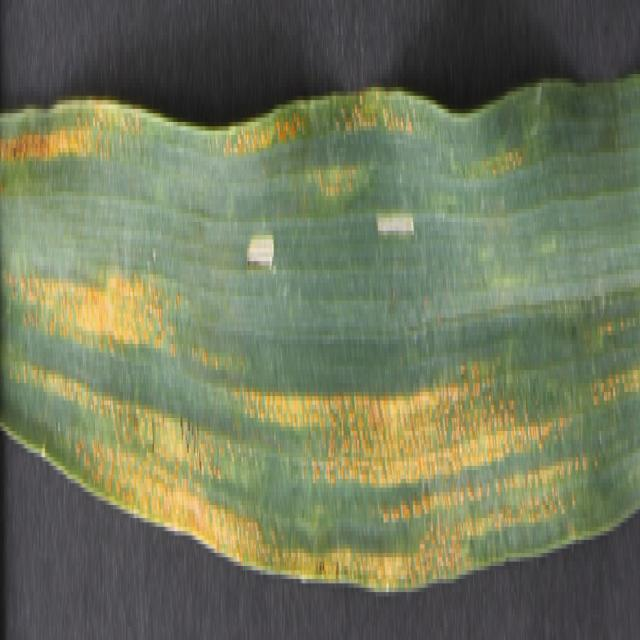leaf rust: (1, 118, 640, 579)
